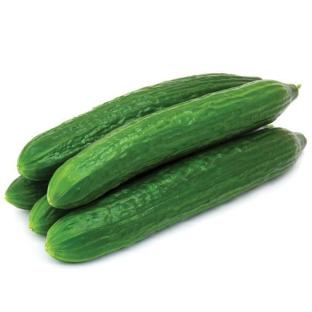Cucumber: (46, 129, 306, 262), (48, 80, 297, 208), (18, 74, 259, 180), (30, 195, 70, 234), (5, 176, 48, 209)
